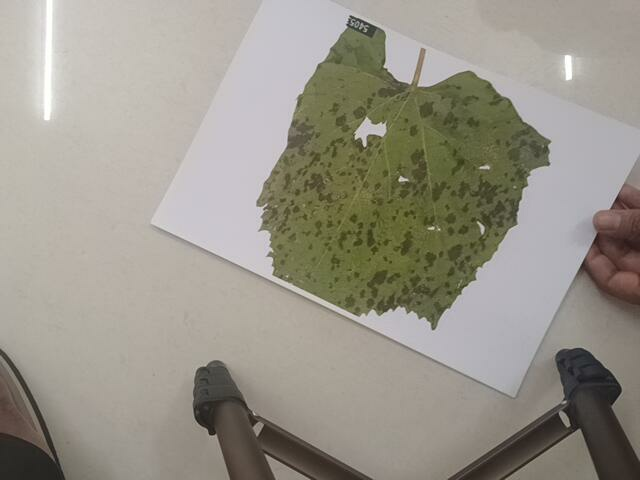Grape_Blight_Leaf: (253, 15, 572, 332)
